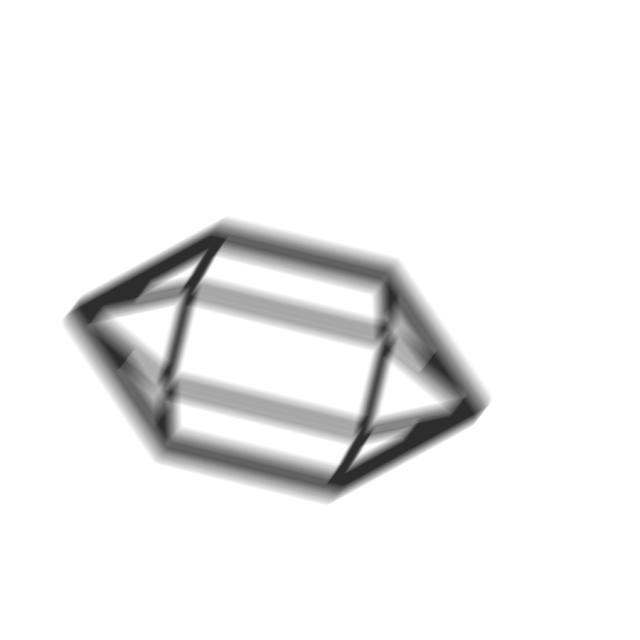crystal: (59, 210, 502, 514)
